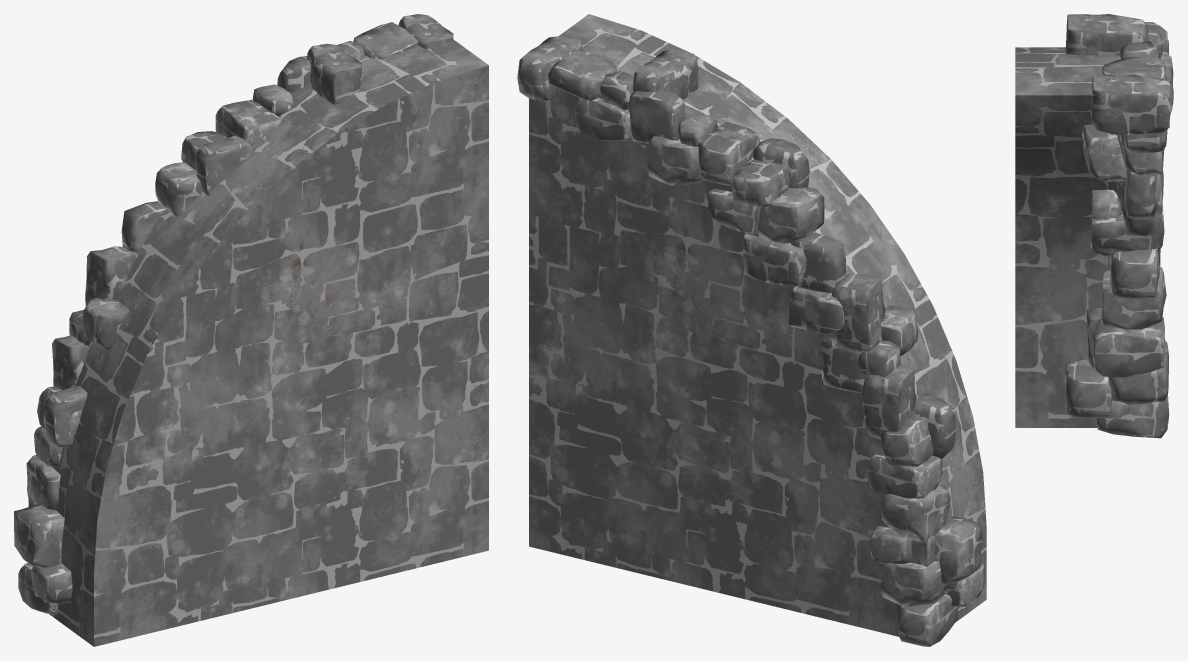
Rendered from Roof_Wall.fbx.
3 views of the same model, side by side, from view 1: azimuth 30°, elevation 25°; view 2: azimuth 150°, elevation 25°; view 3: azimuth 270°, elevation 25° (orthographic). The views are drawn at different scales.
Visible parts, largest first — view 1: Roof_Wall.001, rock_1.124; view 2: Roof_Wall.001, rock_1.124; view 3: rock_1.124, Roof_Wall.001.
Part boxes in pixels (left/top/right/bottom): Roof_Wall.001: left=49, top=39, right=488, bottom=646; rock_1.124: left=14, top=14, right=453, bottom=614; Roof_Wall.001: left=529, top=14, right=986, bottom=636; rock_1.124: left=517, top=36, right=985, bottom=646; rock_1.124: left=1064, top=14, right=1173, bottom=438; Roof_Wall.001: left=1015, top=47, right=1120, bottom=427.
Size of the model in its own units: 6.22 by 6.88 by 1.76.
